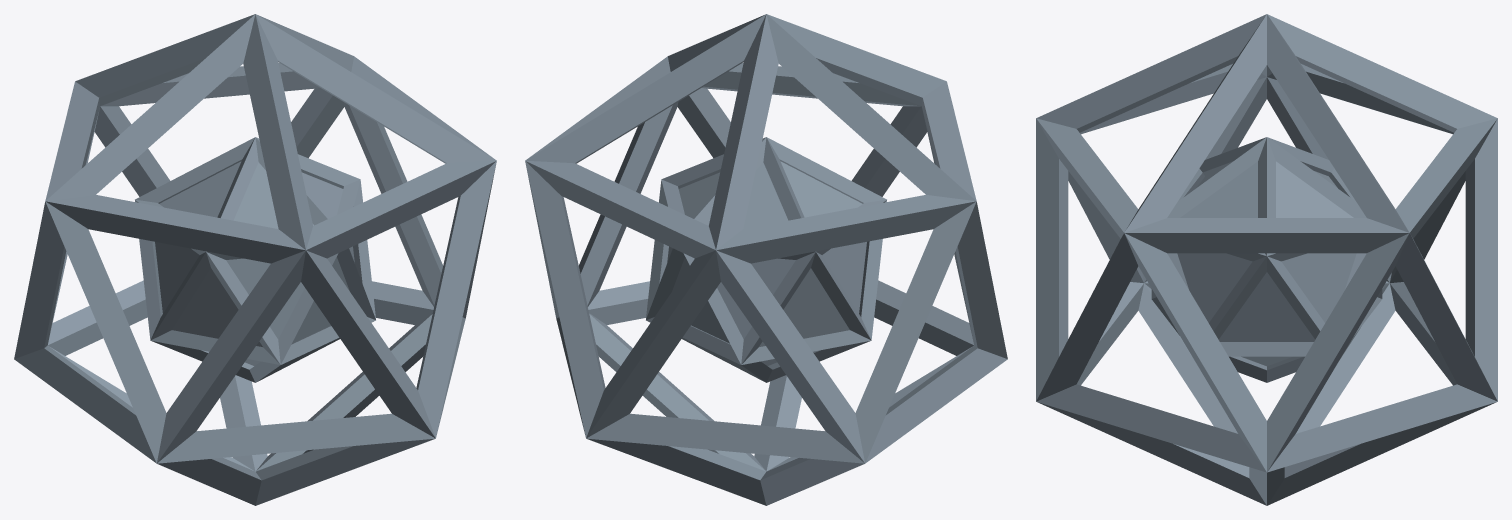
Rendered from gyrace-build-bomb.glb.
The picture shows the model from 3 angles, left to right: view 1: azimuth 30°, elevation 25°; view 2: azimuth 150°, elevation 25°; view 3: azimuth 270°, elevation 25°; orthographic projection.
Parts seen in each view (by area): view 1: bomb; view 2: bomb; view 3: bomb.
Boxes of the visible parts, box(x1,y1,x2,y2) form: bomb: box(14, 14, 496, 505); bomb: box(525, 14, 1007, 505); bomb: box(1036, 14, 1497, 505).
Size of the model in its own units: 3.58 by 4 by 3.4.
